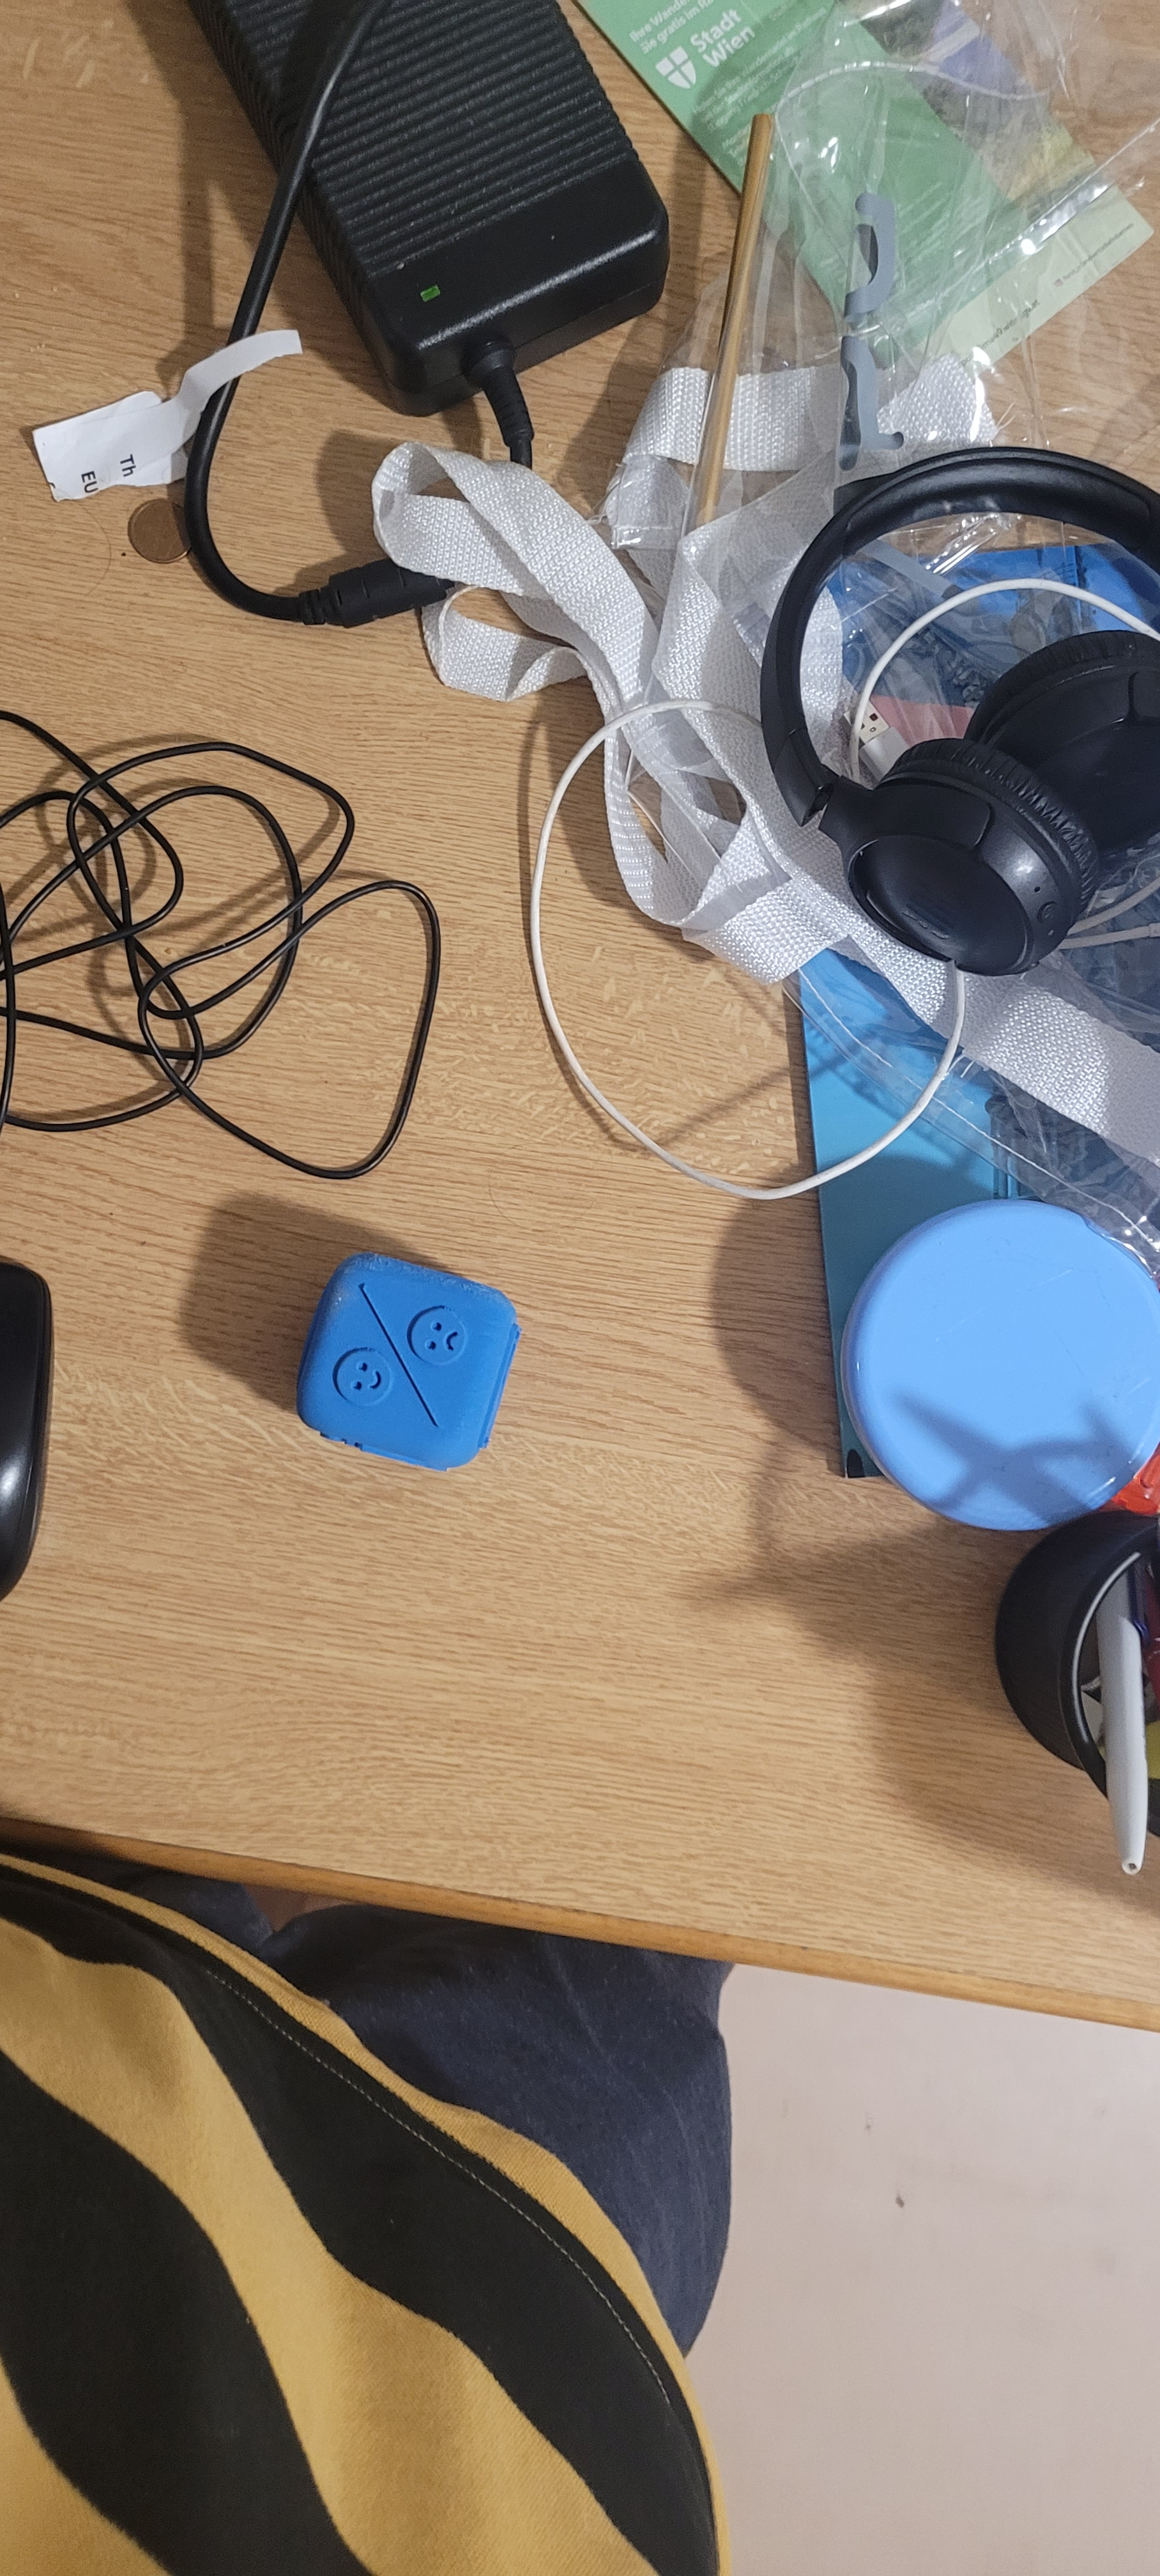Like/Dislike: (311, 1249, 490, 1433)
